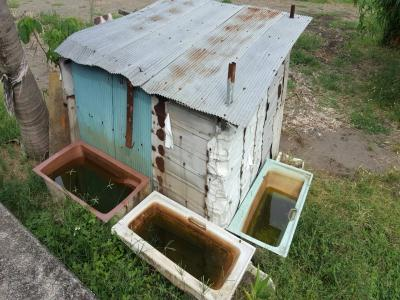tub: (107, 188, 259, 300), (30, 139, 153, 229), (225, 156, 314, 261)
